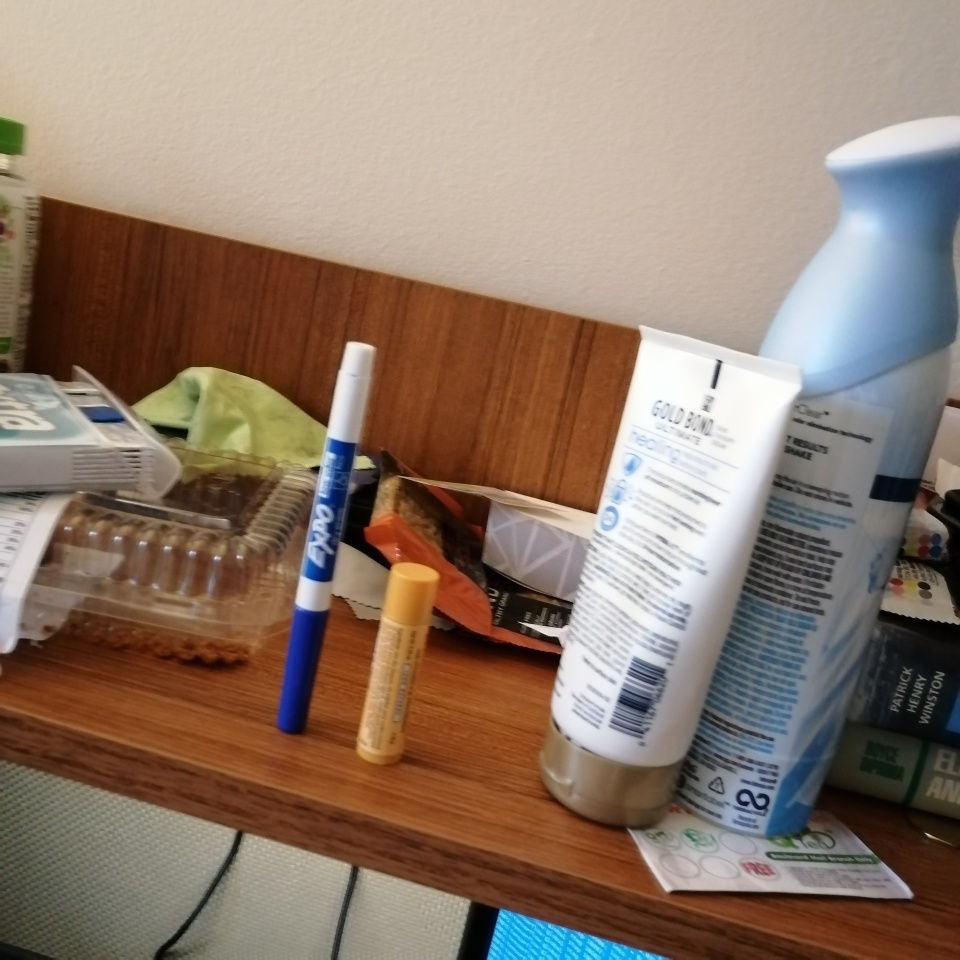chapstick: (355, 562, 440, 766)
